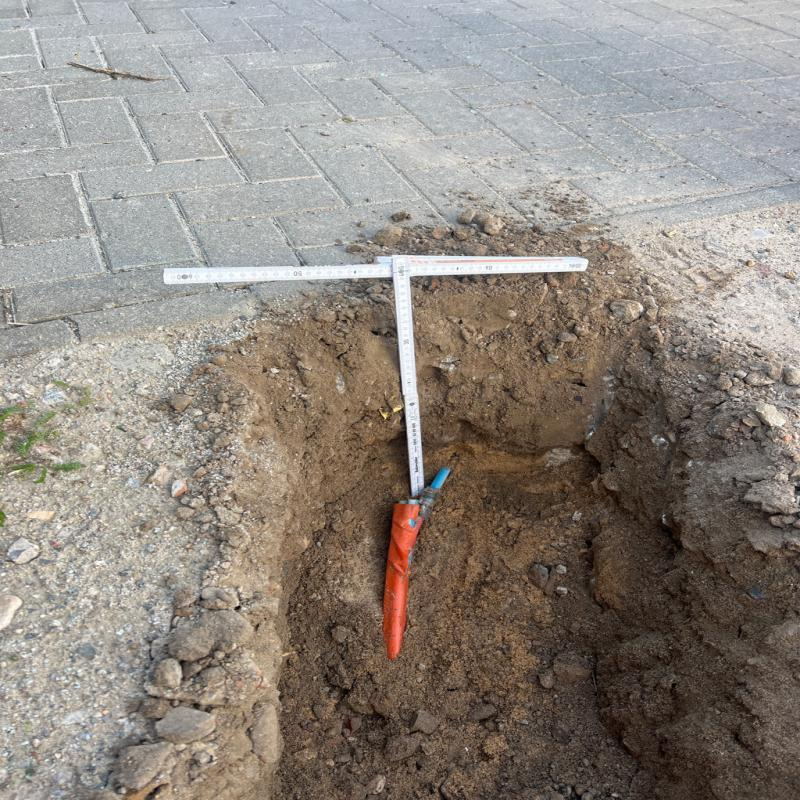Orang-Speednetrohrchen: (382, 482, 444, 659)
